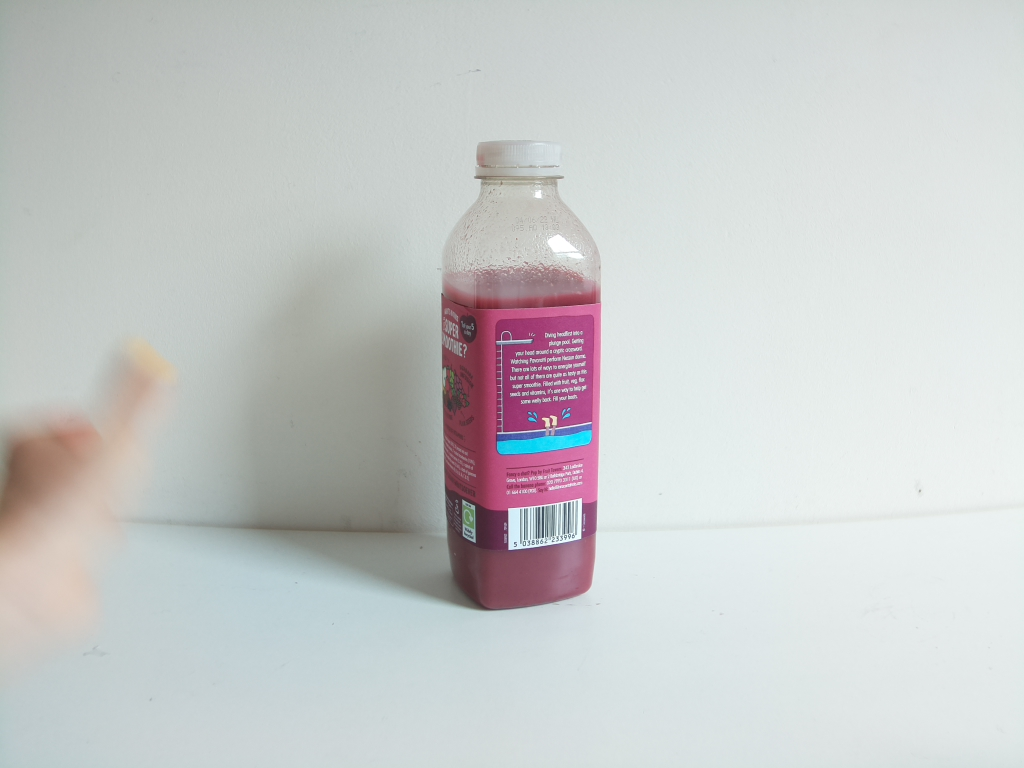juice: (438, 138, 615, 617)
